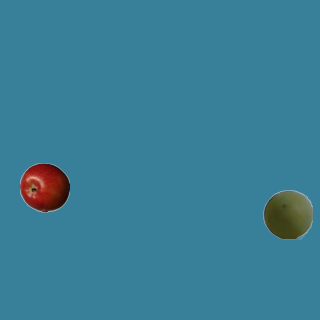Apple Braeburn: (19, 162, 69, 212)
Grape White 4: (262, 189, 312, 239)
